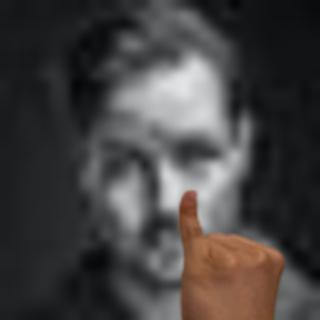FINE: (172, 187, 287, 320)
